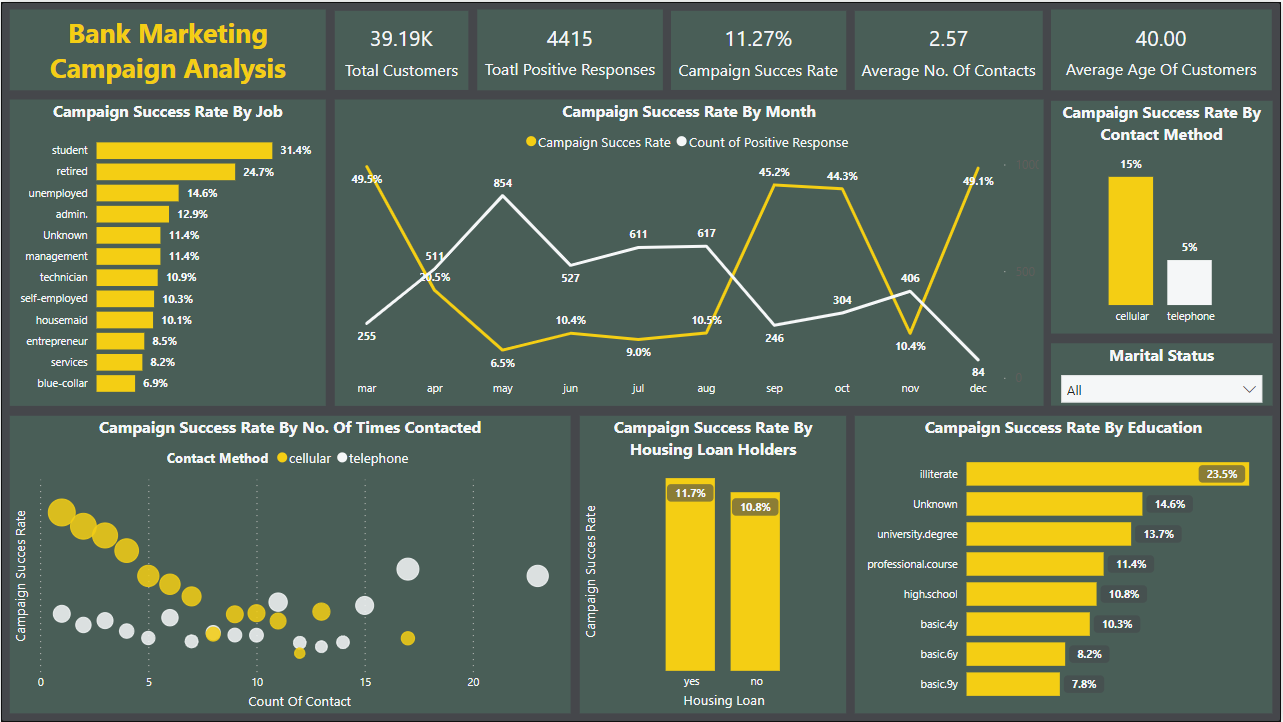

What the dashboard file says about the page in this screenshot:
{"tool":"powerbi","page":{"name":"Page 1","canvas":[1280,720],"ordinal":0},"visuals":[{"type":"card","title":"Total Customers","fields":{"Values":["CountNonNull(bank_customers_data.age)"]},"box":[334.1,8.4,133.9,79.6],"z":0},{"type":"card","title":"Total Customers","fields":{"Values":["bank_customers_data.Count of Positive_response? for yes"]},"box":[476.4,7.2,185.7,80.8],"z":1000},{"type":"card","title":"Total Customers","fields":{"Values":["bank_customers_data.Campaign Succes Rate"]},"box":[670.6,8.4,174.9,79.6],"z":2000},{"type":"card","title":"Total Customers","fields":{"Values":["Avg(bank_customers_data.Calls_current_campaign)"]},"box":[853.9,8.4,188.1,79.6],"z":3000},{"type":"card","title":"Total Customers","fields":{"Values":["Avg(bank_customers_data.age)"]},"box":[1050.5,7.2,220.7,80.8],"z":4000},{"type":"textbox","box":[8.4,7.2,316,80.8],"z":5000},{"type":"barChart","title":"Campaign Success Rate By Job","fields":{"Category":["bank_customers_data.job"],"Y":["bank_customers_data.Campaign Succes Rate"]},"box":[8.8,97.5,316.2,306.2],"z":6000},{"type":"lineChart","title":"Campaign Success Rate By Month","fields":{"Y":["bank_customers_data.Campaign Succes Rate"],"Y2":["bank_customers_data.Count of Yes"],"Category":["bank_customers_data.month"]},"box":[333.8,97.5,708.8,306.2],"z":7000},{"type":"clusteredColumnChart","title":"Campaign Success Rate By Contact Method","fields":{"Category":["bank_customers_data.contact"],"Y":["bank_customers_data.Campaign Succes Rate"]},"box":[1050,98.8,221.2,232.5],"z":8000},{"type":"scatterChart","title":"Campaign Success Rate By No. Of Times Contacted","fields":{"X":["bank_customers_data.Calls_current_campaign"],"Series":["bank_customers_data.contact"],"Y":["bank_customers_data.Campaign Succes Rate"],"Size":["bank_customers_data.Campaign Succes Rate"]},"box":[8.4,413.7,560.8,297.9],"z":9000},{"type":"barChart","title":"Campaign Success Rate By Education","fields":{"Y":["bank_customers_data.Campaign Succes Rate"],"Category":["bank_customers_data.education"]},"box":[853.9,413.7,417.3,297.9],"z":10000},{"type":"columnChart","title":"Campaign Success Rate By Housing Loan Holders","fields":{"Y":["bank_customers_data.Campaign Succes Rate"],"Category":["bank_customers_data.Housing_loan"]},"box":[578.9,413.7,266.5,297.9],"z":11000},{"type":"slicer","title":"Marital Status","fields":{"Values":["bank_customers_data.marital"]},"box":[1050,341.2,221.2,62.5],"z":12000}]}

Visuals, with their boxes in screenshot pixels (x1, y1, x2, y2), scaled from the page's 1280x720 canvas onto the 1283x722 screenshot:
"Total Customers" card: (335, 8, 469, 88)
"Total Customers" card: (478, 7, 664, 88)
"Total Customers" card: (672, 8, 847, 88)
"Total Customers" card: (856, 8, 1044, 88)
"Total Customers" card: (1053, 7, 1274, 88)
textbox: (8, 7, 325, 88)
"Campaign Success Rate By Job" barChart: (9, 98, 326, 405)
"Campaign Success Rate By Month" lineChart: (335, 98, 1045, 405)
"Campaign Success Rate By Contact Method" clusteredColumnChart: (1052, 99, 1274, 332)
"Campaign Success Rate By No. Of Times Contacted" scatterChart: (8, 415, 571, 714)
"Campaign Success Rate By Education" barChart: (856, 415, 1274, 714)
"Campaign Success Rate By Housing Loan Holders" columnChart: (580, 415, 847, 714)
"Marital Status" slicer: (1052, 342, 1274, 405)
